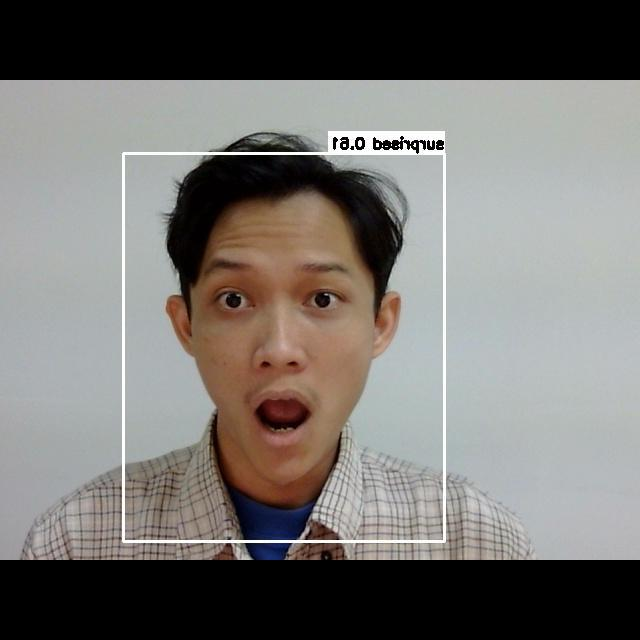Surprised: (190, 241, 386, 469)
